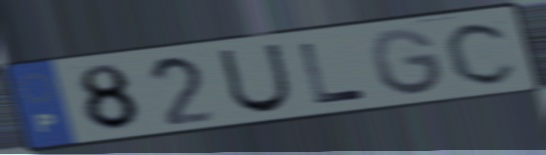2: (146, 53, 218, 129)
8: (75, 61, 144, 134)
C: (441, 19, 522, 87)
G: (367, 26, 449, 98)
L: (295, 40, 369, 107)
U: (215, 41, 296, 116)
